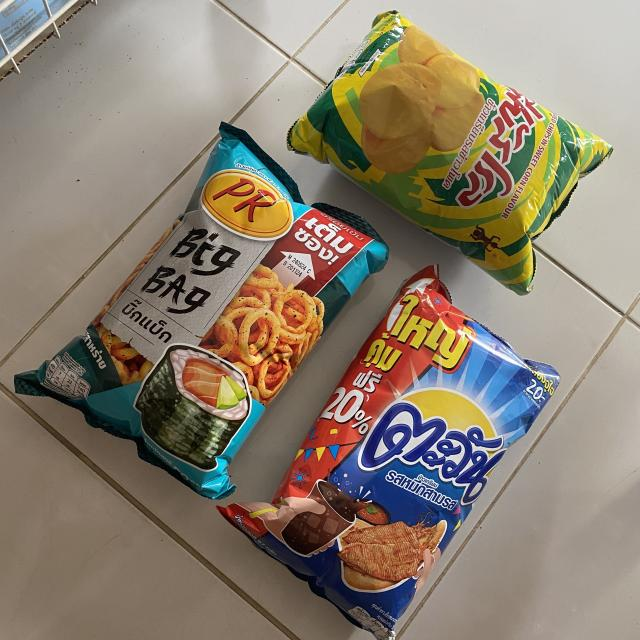plastik: (17, 123, 388, 498), (218, 266, 559, 640), (287, 10, 612, 295)
